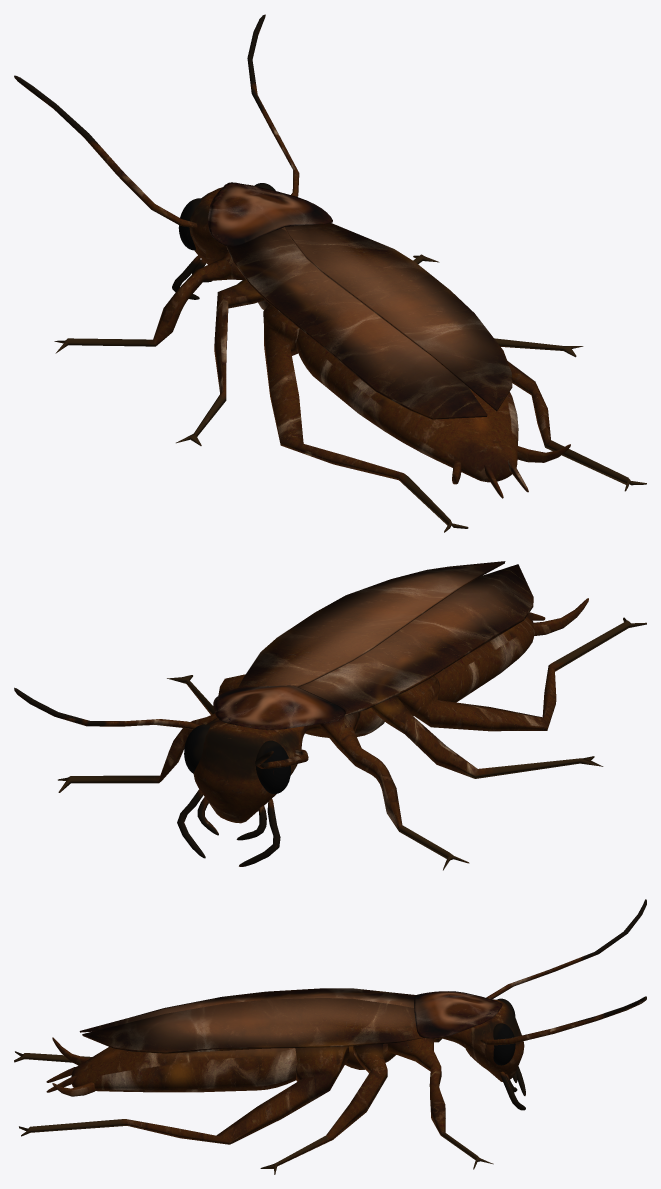
The model's file is cockroach.glb.
3 renders of one model, top to bottom at view 1: azimuth 30°, elevation 25°; view 2: azimuth 150°, elevation 25°; view 3: azimuth 270°, elevation 25°, orthographic. The views are drawn at different scales.
Visible parts, largest first — view 1: Cube.004; view 2: Cube.004; view 3: Cube.004.
Part boxes in pixels (x1,y1,x2,y2): Cube.004: (14,14,646,532); Cube.004: (14,561,646,870); Cube.004: (14,899,646,1174).
Bounding box in the file's own units: 0.6302 × 0.2818 × 1.04.
Materials: 1 (1 with a texture image).
